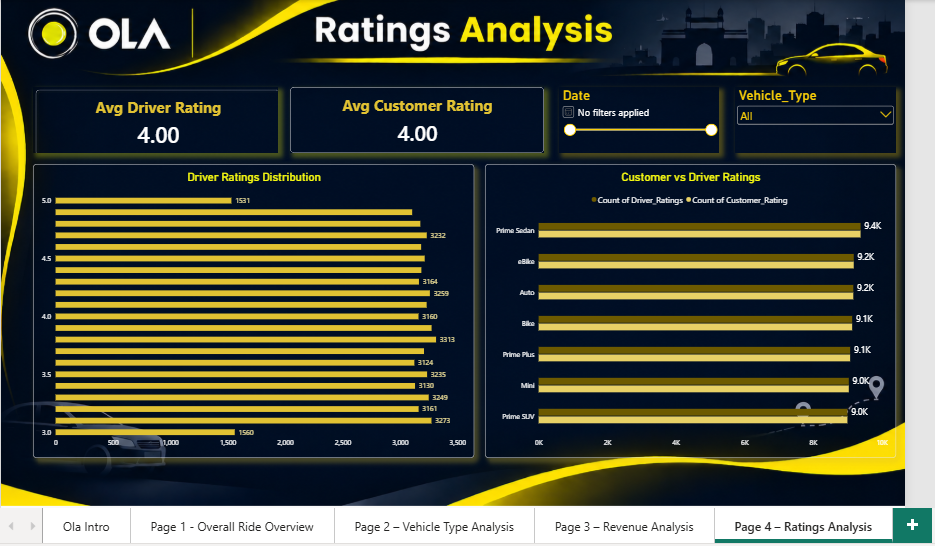

This screenshot's page, from the dashboard's own definition file:
{"tool":"powerbi","page":{"name":"Page 4 – Ratings Analysis","canvas":[1920,1080],"ordinal":4},"visuals":[{"type":"cardVisual","fields":{"Data":["ola_cleaned.Avg Driver Rating"]},"box":[68,185,520.9,140.3],"z":0},{"type":"cardVisual","fields":{"Data":["ola_cleaned.Avg Customer Rating"]},"box":[614.4,185,540,140.3],"z":1000},{"type":"slicer","fields":{"Values":["ola_cleaned.Date"]},"box":[1186.3,185,340.2,140.3],"z":2000},{"type":"slicer","fields":{"Values":["ola_cleaned.Vehicle_Type"]},"box":[1560.5,185,342.3,140.3],"z":3000},{"type":"clusteredBarChart","title":"Driver Ratings Distribution","fields":{"Category":["ola_cleaned.Driver_Ratings"],"Y":["CountNonNull(ola_cleaned.Booking_ID)"]},"box":[68,348.7,937.6,625],"z":3001},{"type":"clusteredBarChart","title":"Customer vs Driver Ratings","fields":{"Category":["ola_cleaned.Vehicle_Type"],"Y":["CountNonNull(ola_cleaned.Driver_Ratings)","CountNonNull(ola_cleaned.Customer_Rating)"]},"box":[1029,348.7,873.8,625],"z":3002}]}

Visuals, with their boxes on the page's 1920x1080 design canvas (x1, y1, x2, y2). These are canvas units, not pixel positions in the 935x546 screenshot, which may show the page scaled, cropped or inside an application window:
cardVisual - ola_cleaned.Avg Driver Rating: rect(68, 185, 589, 325)
cardVisual - ola_cleaned.Avg Customer Rating: rect(614, 185, 1154, 325)
slicer - ola_cleaned.Date: rect(1186, 185, 1526, 325)
slicer - ola_cleaned.Vehicle_Type: rect(1560, 185, 1903, 325)
"Driver Ratings Distribution" clusteredBarChart: rect(68, 349, 1006, 974)
"Customer vs Driver Ratings" clusteredBarChart: rect(1029, 349, 1903, 974)
